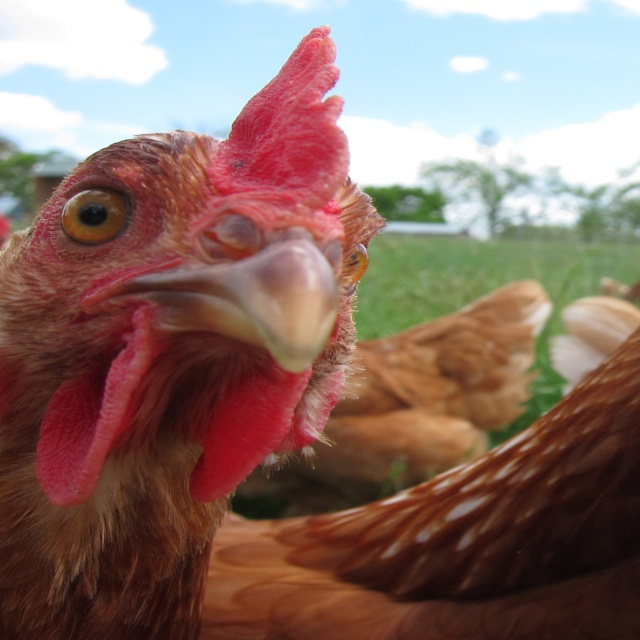Chicken: (0, 1, 435, 618)
